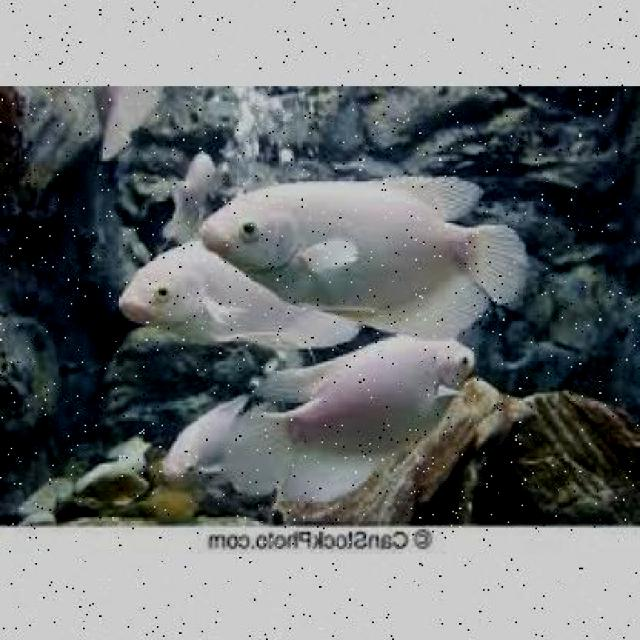gurame: (210, 171, 522, 327), (267, 331, 475, 457), (119, 242, 312, 336), (164, 402, 244, 490)
